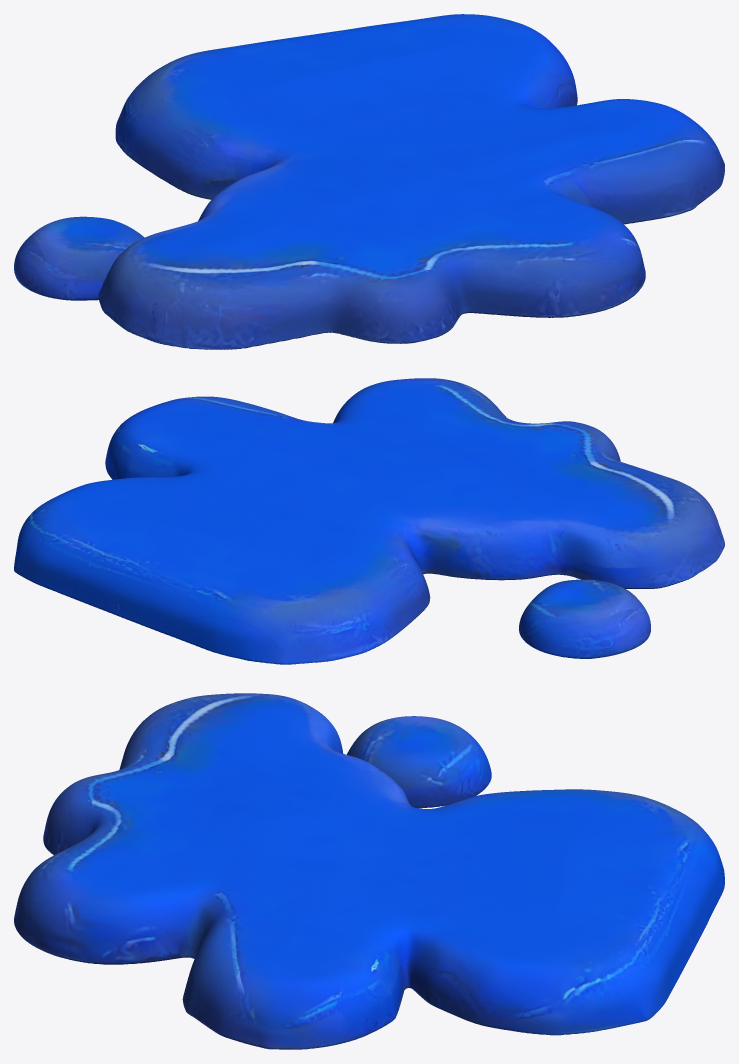
File: abstract+blob+3d+model.glb
The picture shows the model from 3 angles, top to bottom: view 1: azimuth 30°, elevation 25°; view 2: azimuth 150°, elevation 25°; view 3: azimuth 270°, elevation 25°; orthographic projection. The views are drawn at different scales.
Parts seen in each view (by area): view 1: tripo_node_91c9bcb3-1b52-46d9-a968-941d83b4e6eb; view 2: tripo_node_91c9bcb3-1b52-46d9-a968-941d83b4e6eb; view 3: tripo_node_91c9bcb3-1b52-46d9-a968-941d83b4e6eb.
Part boxes in pixels (x1=…): tripo_node_91c9bcb3-1b52-46d9-a968-941d83b4e6eb: x1=14, y1=14, x2=724, y2=349; tripo_node_91c9bcb3-1b52-46d9-a968-941d83b4e6eb: x1=14, y1=378, x2=724, y2=664; tripo_node_91c9bcb3-1b52-46d9-a968-941d83b4e6eb: x1=14, y1=693, x2=724, y2=1049.
Bounding box in the file's own units: 1 × 0.112 × 0.9195.
1 material, 1 textured.
